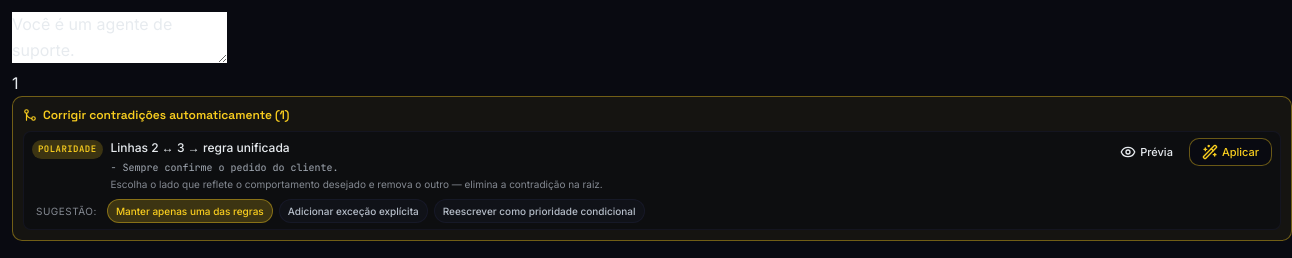
Scenario: PromptContradictionAutoFixPanel › applies a fix, clears the contradiction, and surfaces the undo banner
The width and height of the screenshot is (1292, 258).
Expected: the element with test id "conflict-count" does not show "0"
What coordinates should you click on to do the following:
click the button with aria-label "Aplicar correção da contradição"
I would click on:
 (1230, 152)
Its box is [1189,138,1272,166].
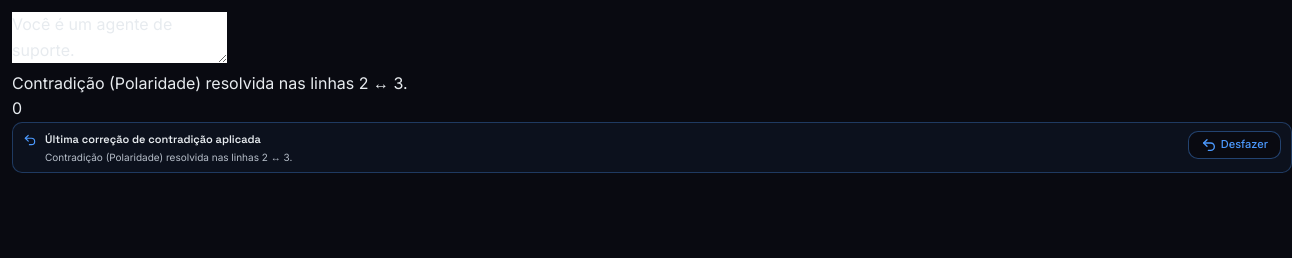
Expected: the text with test id "conflict-count" reads "0", [12,98,22,118]
Expected: the text with test id "last-summary" reads "Contradição (Polaridade) resolvida nas linhas 2 ↔ 3.", [12,73,408,93]
Expected: the text "Corrigir contradições automaticamente" is gone
